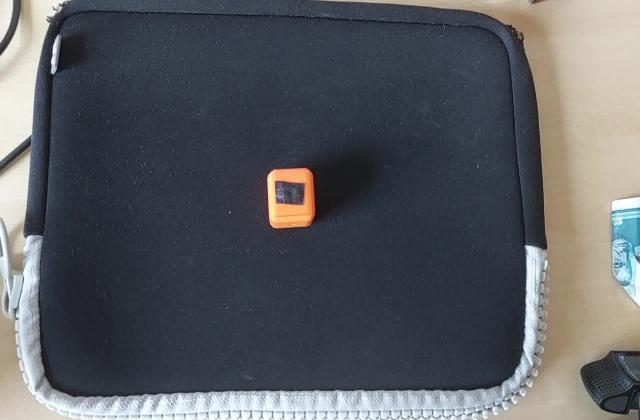black: (271, 178, 308, 208)
sticker: (261, 167, 316, 232)
